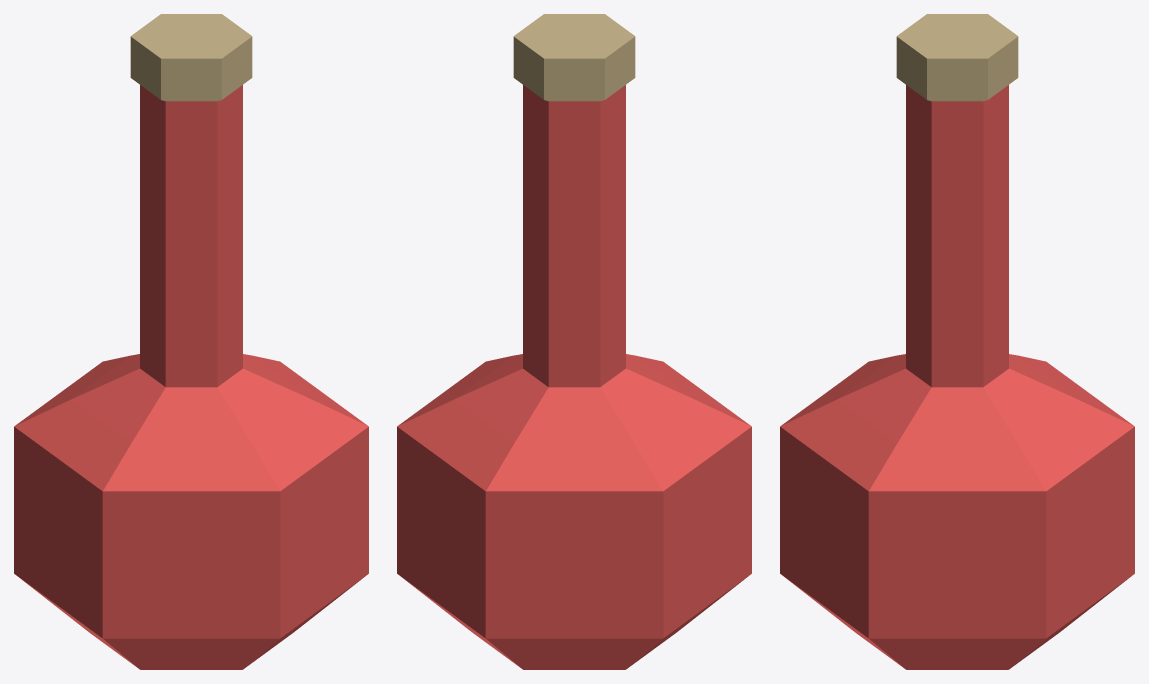
File: LongPotion_14.fbx
3 views of the same model, side by side, from view 1: azimuth 30°, elevation 25°; view 2: azimuth 150°, elevation 25°; view 3: azimuth 270°, elevation 25° (orthographic).
Visible parts, largest first — view 1: LongPotion_14; view 2: LongPotion_14; view 3: LongPotion_14.
Part boxes in pixels (bbox=[...]): LongPotion_14: bbox=[14, 14, 368, 669]; LongPotion_14: bbox=[397, 14, 751, 669]; LongPotion_14: bbox=[780, 14, 1134, 669].
Size of the model in its own units: 11 by 23.54 by 12.7.
